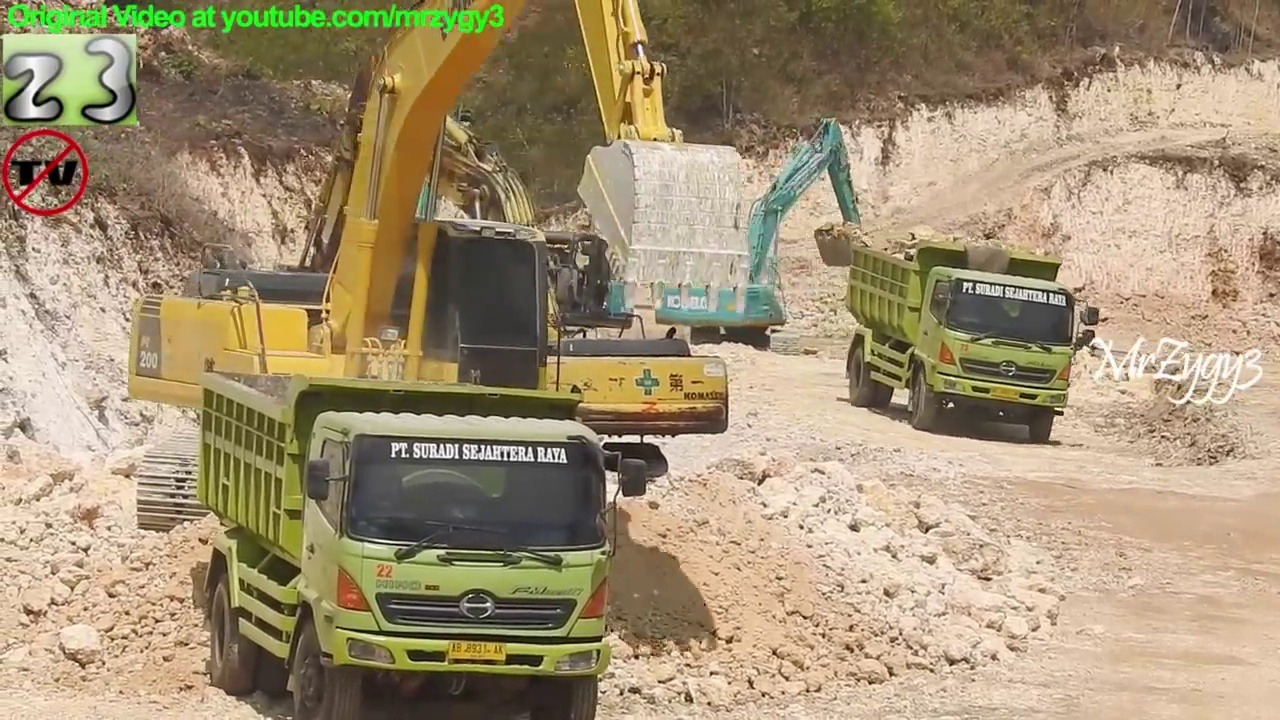excavator: (116, 1, 761, 545), (226, 51, 740, 498), (355, 34, 650, 382), (650, 112, 869, 365)
truck: (189, 362, 655, 720), (838, 237, 1106, 450)
